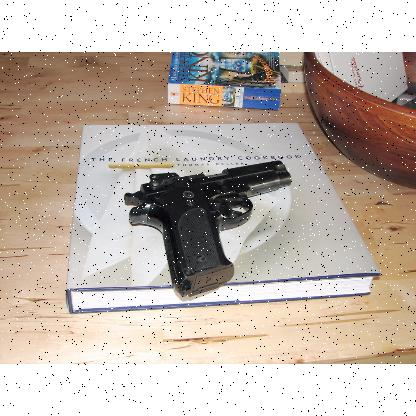gun: (122, 160, 292, 297)
